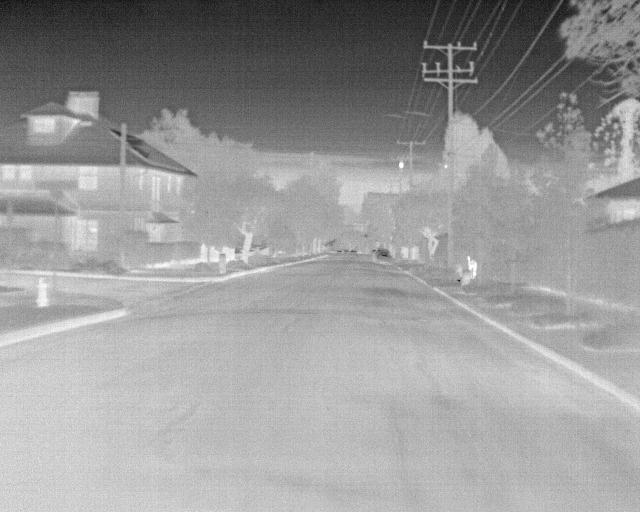car: (371, 245, 394, 264)
